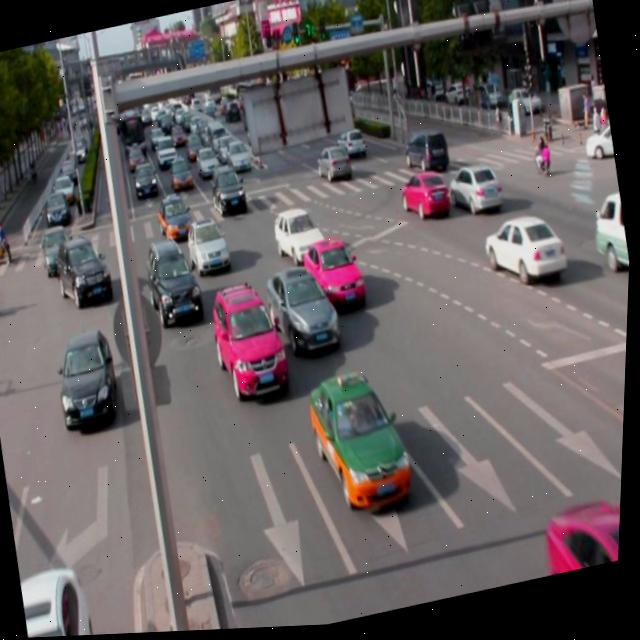car: (304, 362, 423, 524), (207, 275, 297, 408), (264, 260, 348, 363), (51, 326, 126, 433), (481, 209, 571, 292), (543, 492, 625, 580), (21, 562, 108, 639), (143, 234, 209, 332), (301, 232, 371, 321), (53, 231, 119, 312), (271, 202, 331, 269), (444, 161, 507, 222), (397, 169, 456, 229), (184, 213, 236, 278)
truck: (587, 194, 634, 292)
